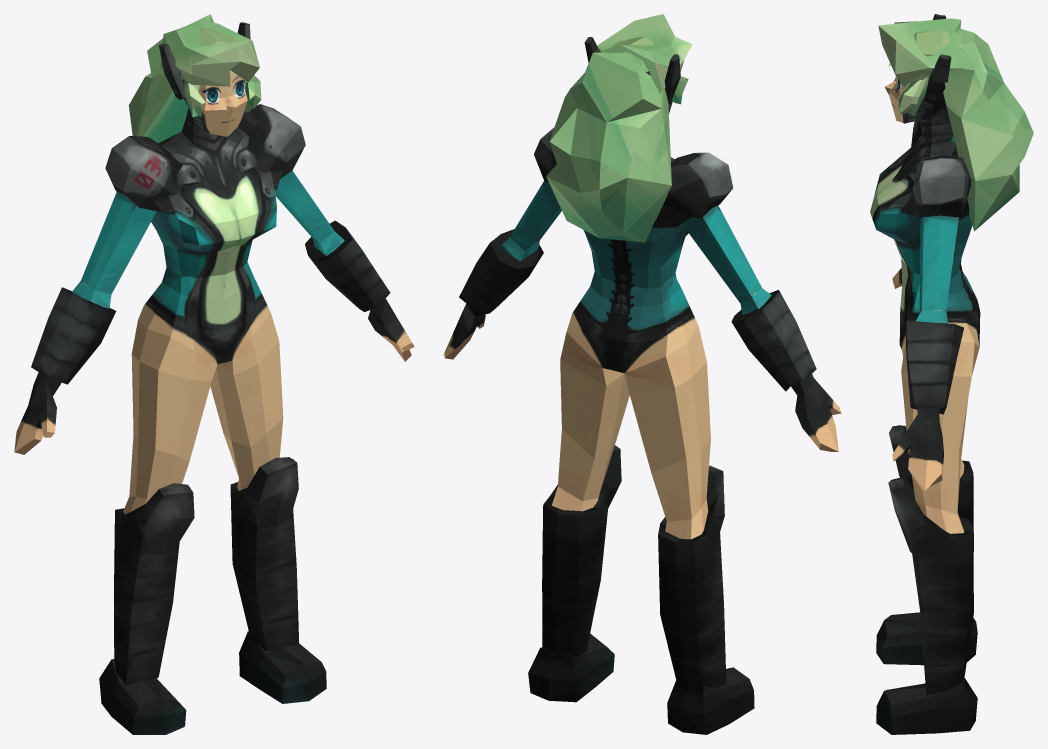
Rendered from KristyReynolds.fbx.
The picture shows the model from 3 angles, left to right: view 1: azimuth 30°, elevation 25°; view 2: azimuth 150°, elevation 25°; view 3: azimuth 270°, elevation 25°; orthographic projection.
Visible parts, largest first — view 1: Body, Right Boot.001, Right Boot, Bangs, Left Glove, Left Shoulder, Right Glove, Right Shoulder, Right Kneepad.001, Right Kneepad, Antennae; view 2: Body, Bangs, Right Boot.001, Right Boot, Left Glove, Right Glove, Left Shoulder, Right Kneepad.001, Antennae, Right Kneepad, Right Shoulder; view 3: Body, Bangs, Right Boot, Right Glove, Right Shoulder, Right Kneepad, Antennae, Right Boot.001, Right tuft, Right Kneepad.001.
Part boxes in pixels (x1,y1,x2,y2): Body: (14, 28, 414, 734); Right Boot.001: (114, 503, 179, 685); Right Boot: (230, 482, 298, 651); Bangs: (128, 14, 259, 142); Left Glove: (31, 287, 116, 384); Left Shoulder: (105, 136, 182, 211); Right Glove: (305, 220, 390, 311); Right Shoulder: (238, 104, 305, 178); Right Kneepad.001: (135, 483, 194, 553); Right Kneepad: (245, 457, 298, 526); Antennae: (159, 22, 250, 99); Body: (443, 36, 841, 734); Bangs: (546, 14, 692, 242); Right Boot.001: (658, 493, 726, 687); Right Boot: (542, 481, 608, 657); Left Glove: (731, 290, 816, 391); Right Glove: (459, 229, 543, 316); Left Shoulder: (663, 152, 733, 218); Right Kneepad.001: (706, 465, 724, 531); Antennae: (584, 37, 680, 104); Right Kneepad: (603, 445, 621, 508); Right Shoulder: (534, 127, 556, 182); Body: (870, 30, 980, 734); Bangs: (878, 18, 1033, 231); Right Boot: (912, 511, 973, 695); Right Glove: (905, 320, 963, 414); Right Shoulder: (911, 155, 971, 217); Right Kneepad: (888, 476, 929, 555); Antennae: (924, 14, 951, 103); Right Boot.001: (957, 460, 973, 551); Right tuft: (895, 77, 928, 115); Right Kneepad.001: (889, 425, 913, 489).
Size of the model in its own units: 170 by 275 by 61.4.
